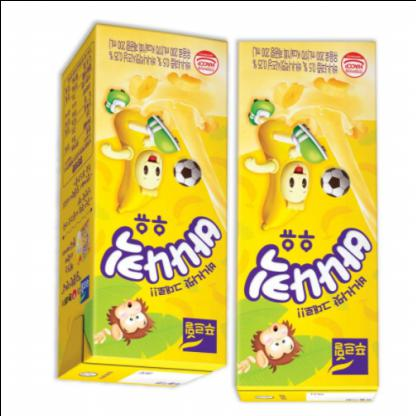tetra: (42, 19, 232, 406), (229, 28, 409, 415)
